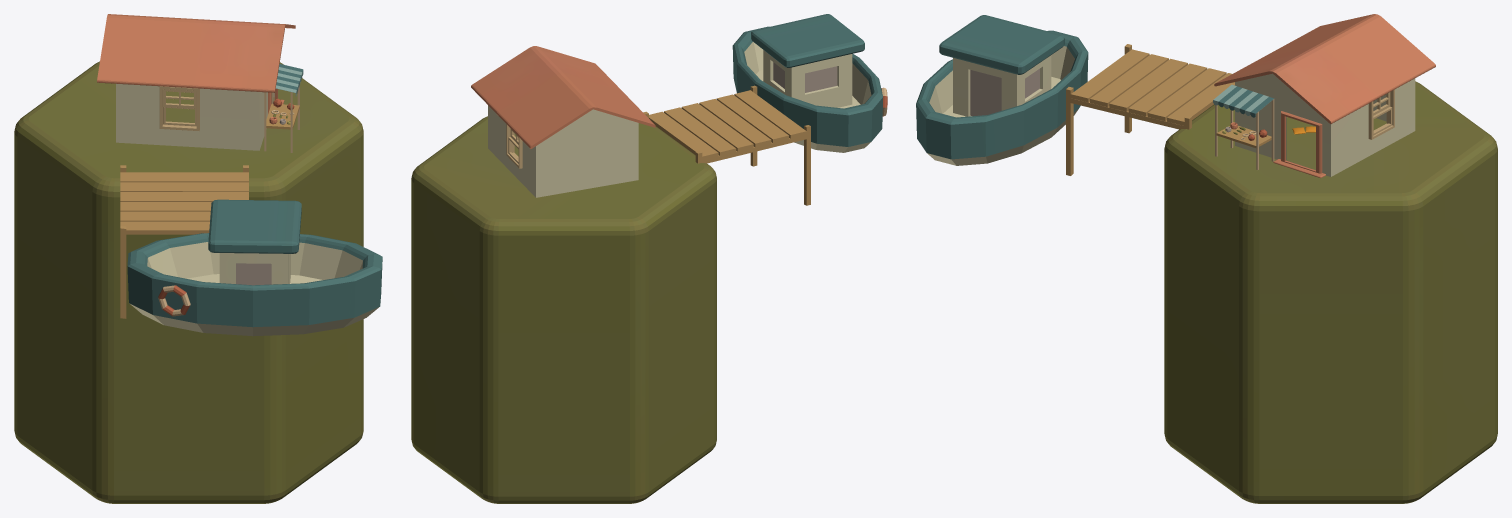
File: Hex-home.glb
3 views of the same model, side by side, from view 1: azimuth 30°, elevation 25°; view 2: azimuth 150°, elevation 25°; view 3: azimuth 270°, elevation 25° (orthographic). The views are drawn at different scales.
Parts seen in each view (by area): view 1: Cylinder, Sphere.026_Material.001_0, Cube.079_Material.001_0, Cube.096_Material.001_0, Window; view 2: Cylinder, Cube.079_Material.001_0, Sphere.026_Material.001_0, Cube.096_Material.001_0; view 3: Cylinder, Cube.079_Material.001_0, Sphere.026_Material.001_0, Cube.096_Material.001_0, Window.001.
Part boxes in pixels (x1,y1,x2,y2): Cylinder: [14, 61, 363, 503]; Sphere.026_Material.001_0: [127, 199, 382, 336]; Cube.079_Material.001_0: [97, 14, 303, 152]; Cube.096_Material.001_0: [120, 165, 248, 318]; Window: [159, 86, 199, 130]; Cylinder: [411, 116, 716, 503]; Cube.079_Material.001_0: [471, 46, 655, 197]; Sphere.026_Material.001_0: [732, 14, 887, 152]; Cube.096_Material.001_0: [643, 85, 810, 205]; Cylinder: [1164, 81, 1497, 503]; Cube.079_Material.001_0: [1213, 14, 1435, 178]; Sphere.026_Material.001_0: [916, 15, 1088, 165]; Cube.096_Material.001_0: [1066, 44, 1234, 175]; Window.001: [1368, 89, 1394, 139].
Size of the model in its own units: 2.2 by 2.62 by 3.41.
Materials: 30 (6 with a texture image).
